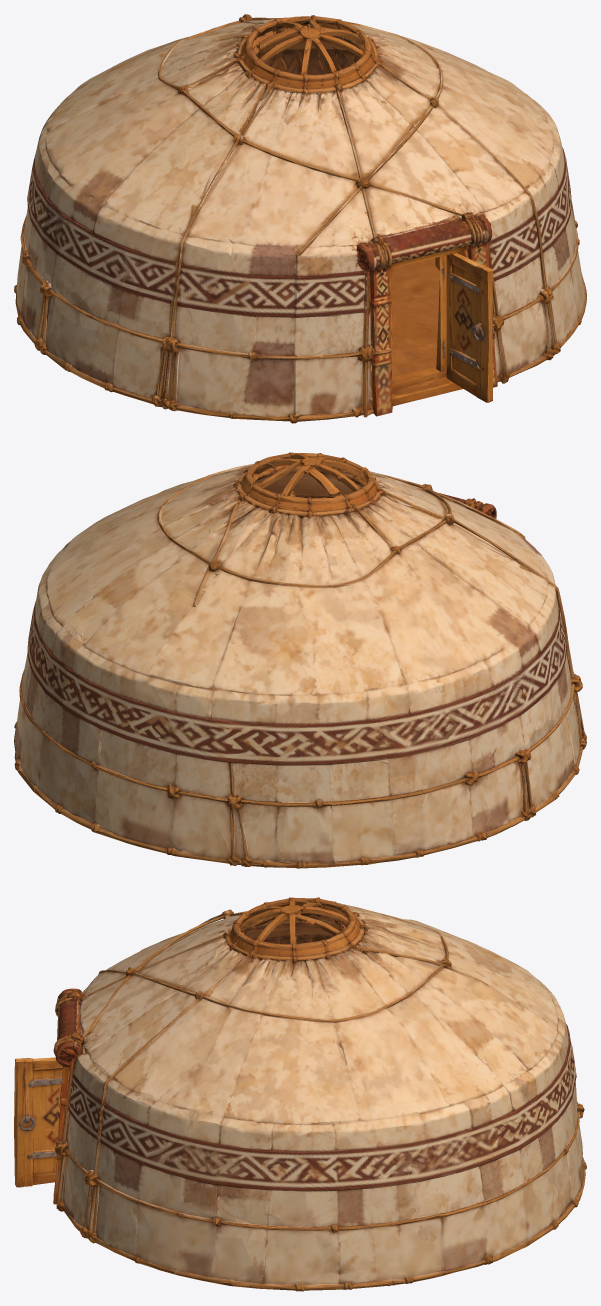
The model's file is yurt.glb.
3 renders of one model, top to bottom at view 1: azimuth 30°, elevation 25°; view 2: azimuth 150°, elevation 25°; view 3: azimuth 270°, elevation 25°, orthographic. The views are drawn at different scales.
Bounding box in the file's own units: 1.83 × 0.986 × 1.9.
1 material, 1 textured.
